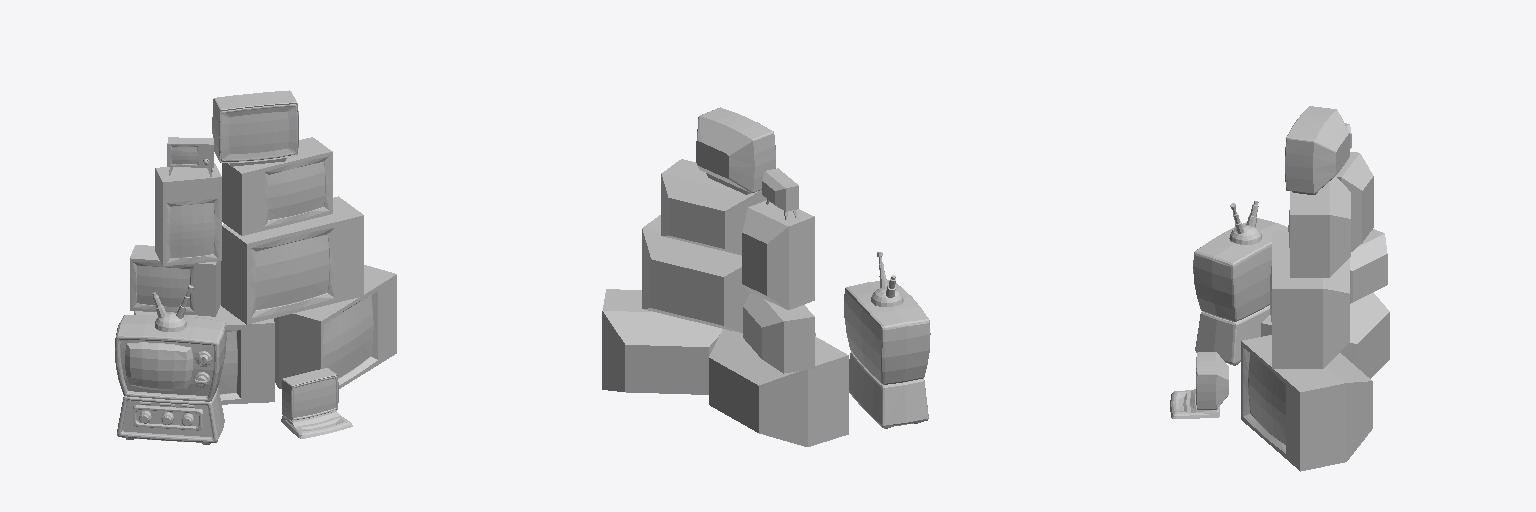
3 renders of one model, left to right at view 1: azimuth 30°, elevation 25°; view 2: azimuth 150°, elevation 25°; view 3: azimuth 270°, elevation 25°, orthographic.
Parts seen in each view (by area): view 1: TV_03_MTL_01_0, TV_02_MTL_02_0, TV_05_MTL_01_0, TV_MTL_02_0, TV_03_sreen_03_0, TV_07_MTL_01_0, Dai_MTL_02_0, TV_04_MTL_01_0, TV_08_MTL_01_0, TV_Sreen_01_0, TV_02_screen_10_0, TV_06_MTL_01_0 (+9 smaller); view 2: TV_04_MTL_01_0, TV_02_MTL_02_0, TV_03_MTL_01_0, TV_07_MTL_01_0, TV_MTL_02_0, TV_05_MTL_01_0, TV_08_MTL_01_0, TV_06_MTL_01_0, Dai_MTL_02_0, TV_09_MTL_01_0, antenna_MTL_02_0; view 3: TV_02_MTL_02_0, TV_03_MTL_01_0, TV_MTL_02_0, TV_05_MTL_01_0, TV_08_MTL_01_0, TV_04_MTL_01_0, PC_01_MTL_01_0, Dai_MTL_02_0, TV_02_screen_10_0, TV_07_MTL_01_0, TV_06_MTL_01_0, antenna_MTL_02_0.
Boxes of the visible parts, x1,y1,x2,y2 form: TV_03_MTL_01_0: [221, 196, 363, 324]; TV_02_MTL_02_0: [274, 265, 396, 388]; TV_05_MTL_01_0: [222, 137, 332, 235]; TV_MTL_02_0: [115, 315, 226, 401]; TV_03_sreen_03_0: [256, 235, 328, 309]; TV_07_MTL_01_0: [155, 163, 221, 265]; Dai_MTL_02_0: [117, 387, 224, 442]; TV_04_MTL_01_0: [134, 305, 274, 404]; TV_08_MTL_01_0: [212, 90, 298, 166]; TV_Sreen_01_0: [125, 342, 192, 390]; TV_02_screen_10_0: [323, 295, 372, 377]; TV_06_MTL_01_0: [130, 245, 220, 316]; TV_04_MTL_01_0: [709, 329, 848, 446]; TV_02_MTL_02_0: [602, 289, 722, 394]; TV_03_MTL_01_0: [642, 215, 749, 332]; TV_07_MTL_01_0: [742, 200, 814, 309]; TV_MTL_02_0: [844, 280, 930, 384]; TV_05_MTL_01_0: [661, 159, 766, 255]; TV_08_MTL_01_0: [696, 107, 775, 194]; TV_06_MTL_01_0: [743, 293, 814, 373]; Dai_MTL_02_0: [849, 352, 928, 427]; TV_09_MTL_01_0: [762, 168, 798, 219]; antenna_MTL_02_0: [871, 252, 903, 306]; TV_02_MTL_02_0: [1241, 335, 1372, 471]; TV_03_MTL_01_0: [1272, 231, 1349, 368]; TV_MTL_02_0: [1193, 218, 1287, 321]; TV_05_MTL_01_0: [1290, 176, 1350, 277]; TV_08_MTL_01_0: [1285, 106, 1349, 194]; TV_04_MTL_01_0: [1261, 292, 1389, 378]; PC_01_MTL_01_0: [1170, 352, 1228, 418]; Dai_MTL_02_0: [1195, 305, 1269, 364]; TV_02_screen_10_0: [1249, 354, 1285, 443]; TV_07_MTL_01_0: [1336, 152, 1373, 251]; TV_06_MTL_01_0: [1350, 229, 1387, 303]; antenna_MTL_02_0: [1229, 201, 1261, 244].
Bounding box in the file's own units: 61.91 × 55.29 × 38.94.